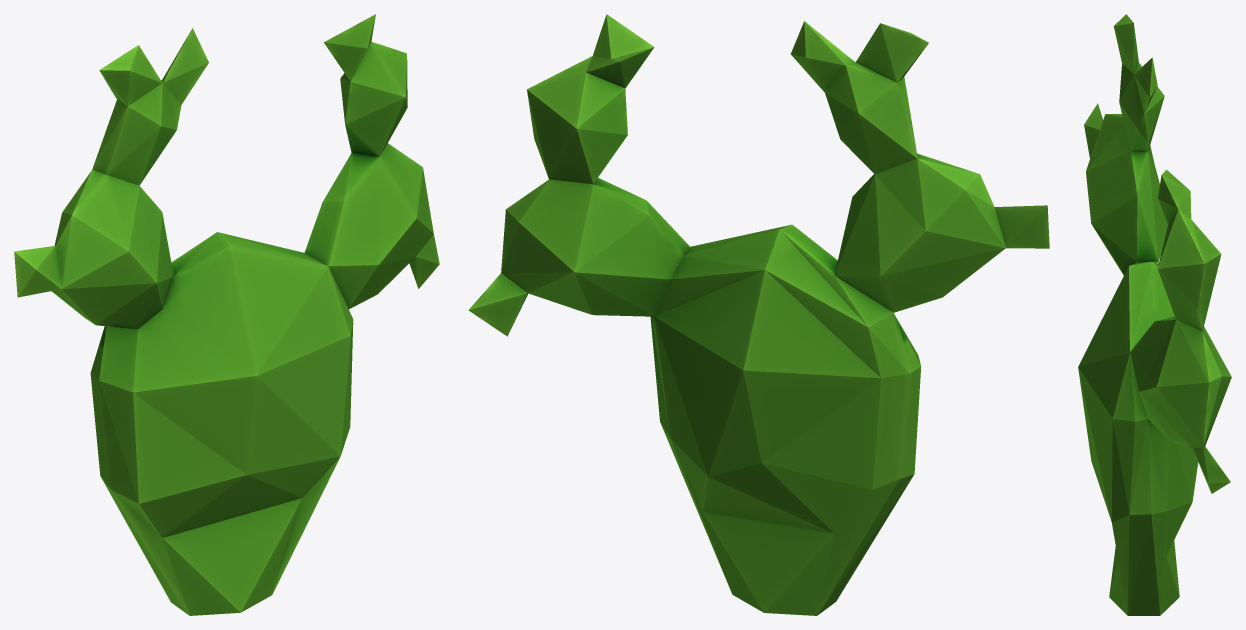
The model's file is Cactus_10.fbx.
3 renders of one model, left to right at view 1: azimuth 30°, elevation 25°; view 2: azimuth 150°, elevation 25°; view 3: azimuth 270°, elevation 25°, orthographic. The views are drawn at different scales.
Parts seen in each view (by area): view 1: Cactus_10; view 2: Cactus_10; view 3: Cactus_10.
Boxes of the visible parts, x1,y1,x2,y2 form: Cactus_10: (14,14,439,615); Cactus_10: (468,14,1049,615); Cactus_10: (1078,14,1231,615).
Bounding box in the file's own units: 45.7 × 13.37 × 51.26.
1 material, 1 textured.
